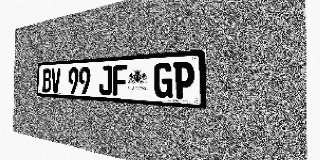9: (68, 67, 79, 94), (79, 67, 90, 94)
B: (42, 68, 51, 93)
F: (113, 65, 127, 96)
G: (154, 62, 173, 99)
J: (99, 65, 112, 96)
P: (173, 61, 195, 100)
V: (51, 68, 61, 93)
